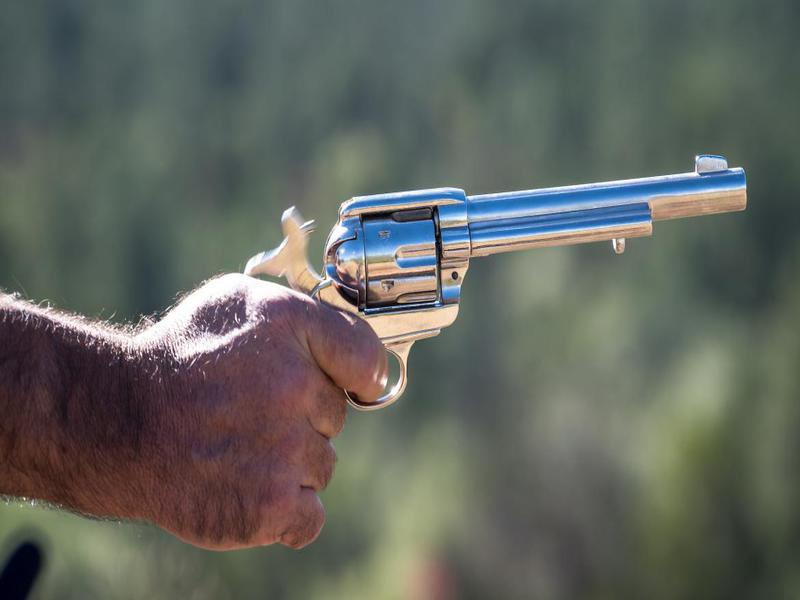Revolver: (261, 153, 763, 414)
